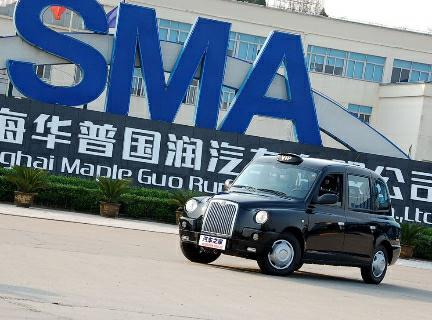吉利汽车-英伦TX4: (171, 150, 410, 284)
